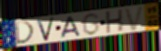A: (60, 15, 83, 39)
D: (14, 20, 36, 46)
G: (81, 12, 100, 36)
H: (106, 8, 124, 34)
V: (123, 5, 146, 32), (36, 16, 55, 42)
